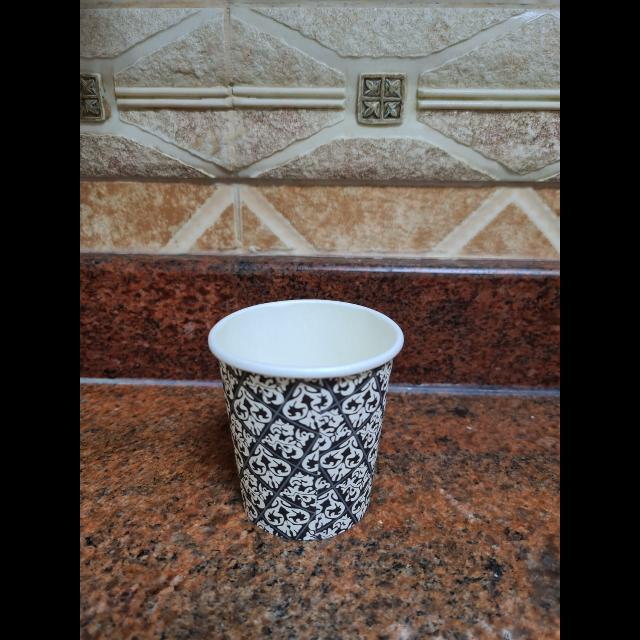trash: (214, 296, 406, 540)
